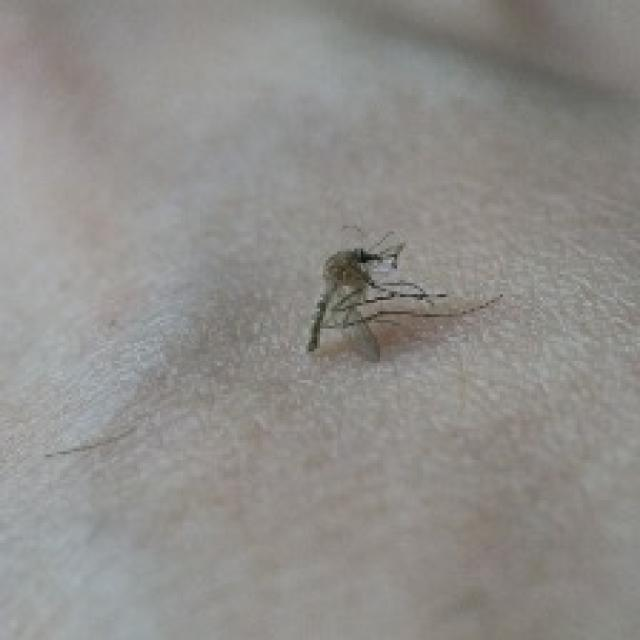culex: (303, 223, 503, 363)
